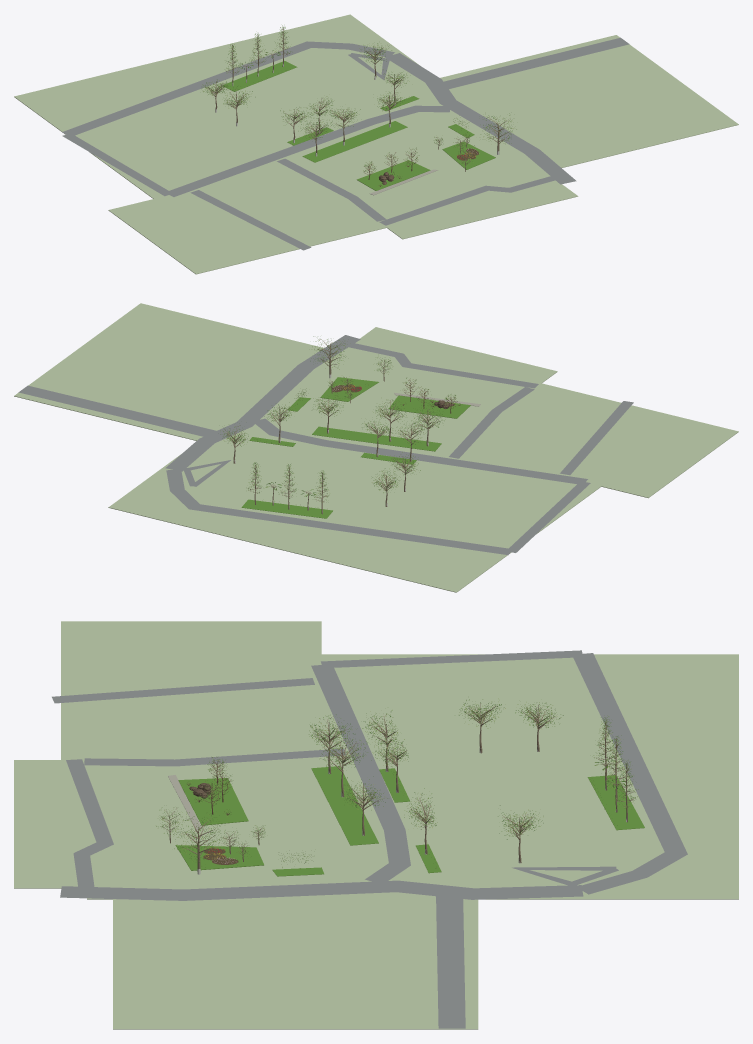
Rendered from landscape-medium.glb.
3 views of the same model, one above another, from view 1: azimuth 30°, elevation 25°; view 2: azimuth 150°, elevation 25°; view 3: azimuth 270°, elevation 25° (orthographic). The views are drawn at different scales.
Parts seen in each view (by area): view 1: ground 地图绿地, detail 沥青道路, garden 庭院草坪, detail 周边树干褐灰, detail 周边Tree叶片1; view 2: ground 地图绿地, detail 沥青道路, garden 庭院草坪, detail 周边树干褐灰, detail 周边Tree叶片1; view 3: ground 地图绿地, detail 沥青道路, garden 庭院草坪, detail 周边树干褐灰, detail 周边Tree叶片1, detail 周边Tree叶片2, detail 周边Tree叶片0.
Part boxes in pixels (x1=…): ground 地图绿地: x1=14, y1=14, x2=738, y2=274; detail 沥青道路: x1=62, y1=37, x2=629, y2=250; garden 庭院草坪: x1=222, y1=61, x2=495, y2=190; detail 周边树干褐灰: x1=206, y1=28, x2=508, y2=171; detail 周边Tree叶片1: x1=205, y1=25, x2=512, y2=163; ground 地图绿地: x1=14, y1=303, x2=738, y2=592; detail 沥青道路: x1=18, y1=335, x2=633, y2=555; garden 庭院草坪: x1=241, y1=377, x2=470, y2=518; detail 周边树干褐灰: x1=225, y1=339, x2=439, y2=514; detail 周边Tree叶片1: x1=223, y1=339, x2=444, y2=502; ground 地图绿地: x1=14, y1=621, x2=738, y2=1029; detail 沥青道路: x1=52, y1=650, x2=687, y2=1028; garden 庭院草坪: x1=175, y1=766, x2=644, y2=876; detail 周边树干褐灰: x1=161, y1=703, x2=634, y2=869; detail 周边Tree叶片1: x1=156, y1=699, x2=635, y2=867; detail 周边Tree叶片2: x1=160, y1=698, x2=639, y2=868; detail 周边Tree叶片0: x1=161, y1=702, x2=636, y2=862.
Bounding box in the file's own units: 178 × 13.62 × 133.
